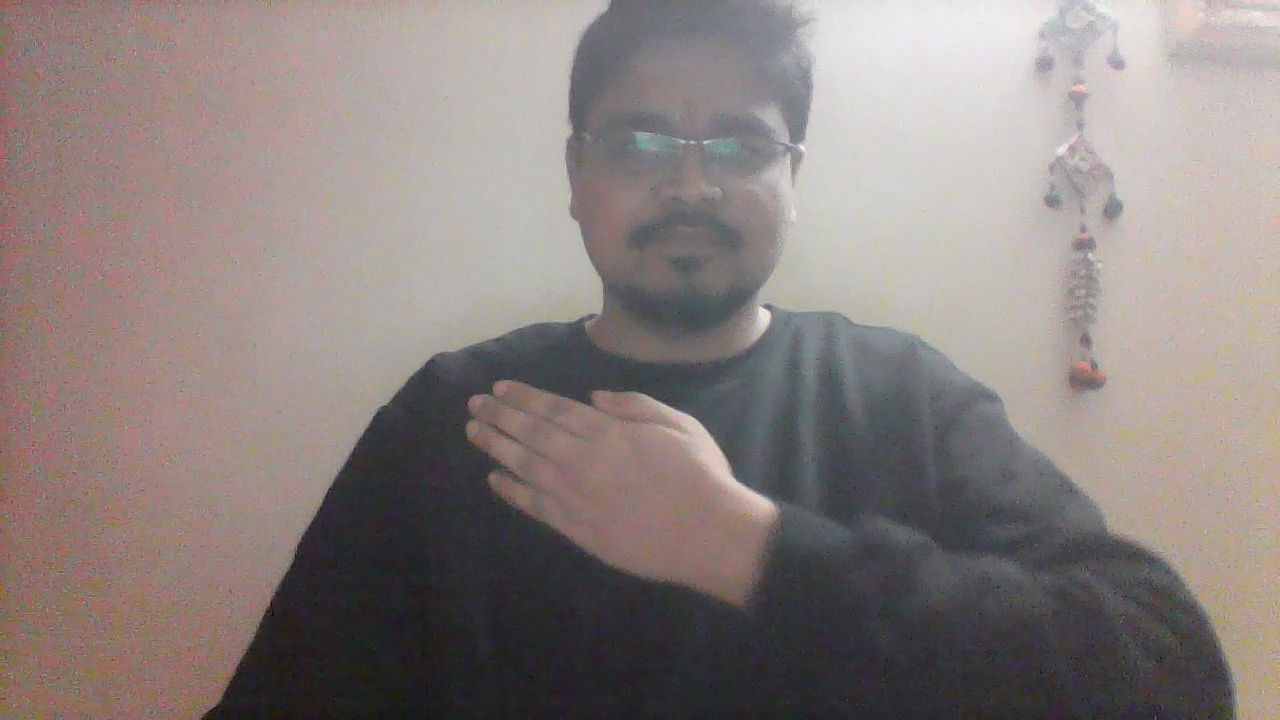Please: (459, 368, 745, 621)
